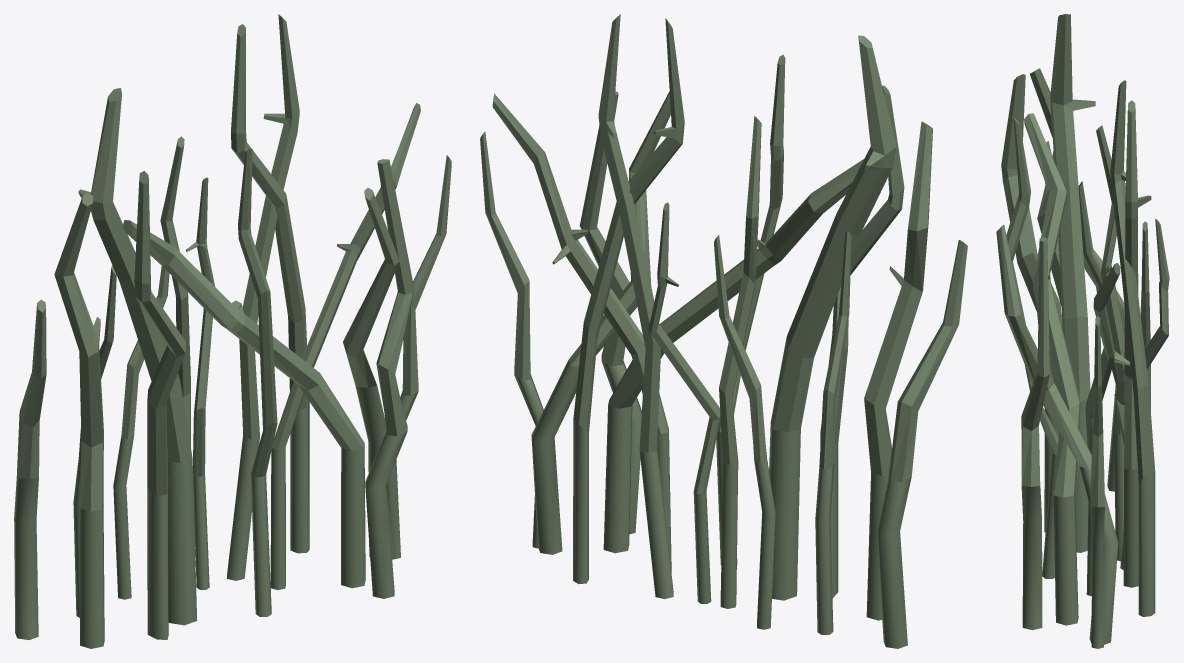
The model's file is vine.fbx.
3 renders of one model, left to right at view 1: azimuth 30°, elevation 25°; view 2: azimuth 150°, elevation 25°; view 3: azimuth 270°, elevation 25°, orthographic. The views are drawn at different scales.
Parts seen in each view (by area): view 1: Cylinder010; view 2: Cylinder010; view 3: Cylinder010.
Boxes of the visible parts, x1,y1,x2,y2 form: Cylinder010: (14, 14, 451, 648); Cylinder010: (480, 14, 967, 648); Cylinder010: (996, 14, 1169, 648).
Bounding box in the file's own units: 356 × 425 × 132.
